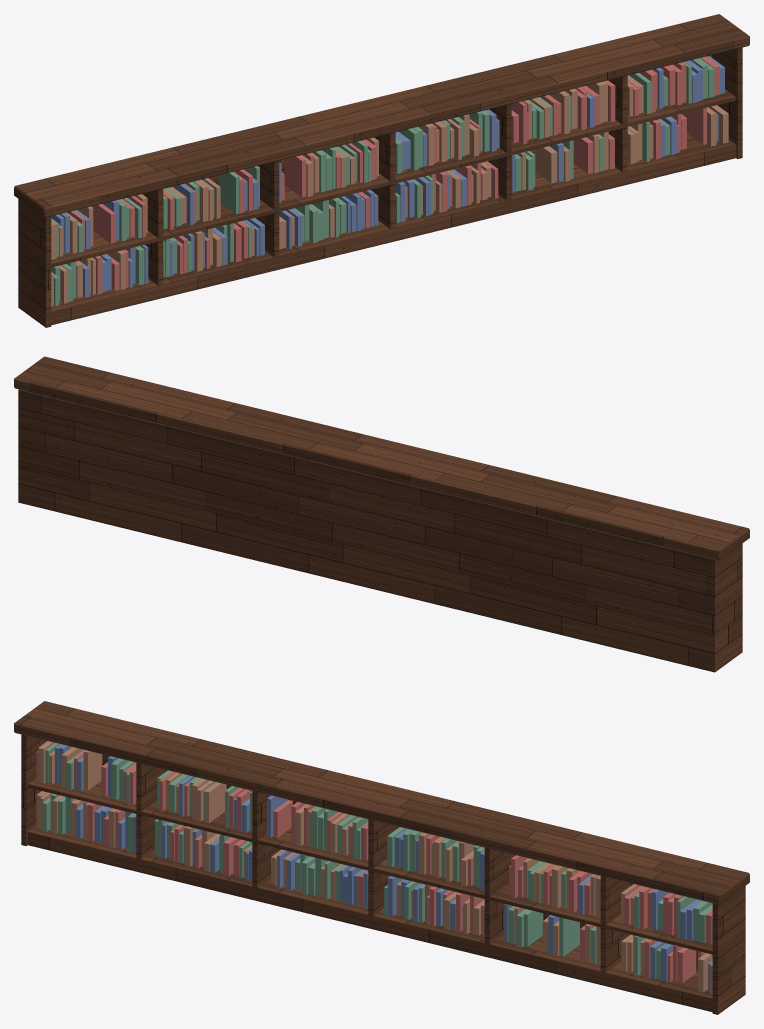
Rendered from bookcase_low.glb.
The picture shows the model from 3 angles, top to bottom: view 1: azimuth 30°, elevation 25°; view 2: azimuth 150°, elevation 25°; view 3: azimuth 330°, elevation 25°; orthographic projection.
Parts seen in each view (by area): view 1: bookcase_low_dkwood, bookcase_low_leather, bookcase_low_book_g, bookcase_low_book_r, bookcase_low_book_b; view 2: bookcase_low_dkwood; view 3: bookcase_low_dkwood, bookcase_low_book_g, bookcase_low_leather, bookcase_low_book_r, bookcase_low_book_b.
Part boxes in pixels (box(x1,y1,x2,y2)): bookcase_low_dkwood: box(14, 14, 749, 327); bookcase_low_leather: box(51, 75, 728, 306); bookcase_low_book_g: box(51, 58, 714, 306); bookcase_low_book_r: box(67, 56, 719, 294); bookcase_low_book_b: box(51, 56, 724, 297); bookcase_low_dkwood: box(14, 356, 749, 672); bookcase_low_dkwood: box(14, 701, 749, 1014); bookcase_low_book_g: box(42, 743, 712, 979); bookcase_low_leather: box(36, 741, 712, 994); bookcase_low_book_r: box(36, 750, 712, 986); bookcase_low_book_b: box(55, 744, 712, 989).
Size of the model in its own units: 5.58 by 0.93 by 0.42.
Materials: 5 (1 with a texture image).
